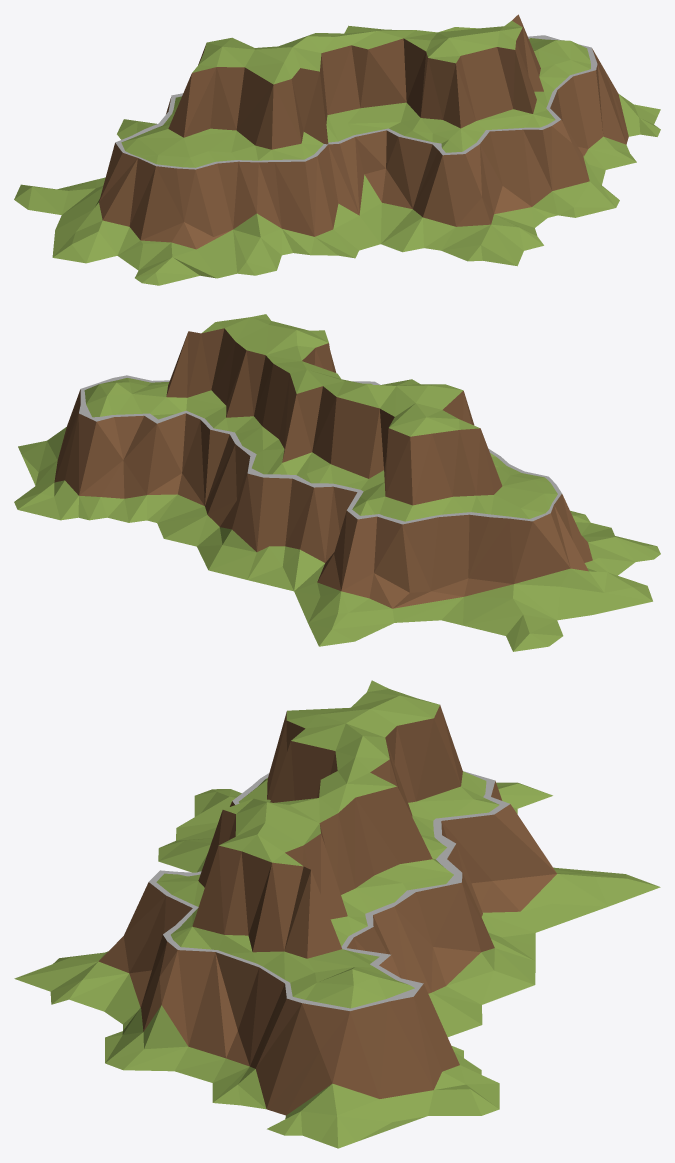
The model's file is mountain01.fbx.
3 views of the same model, one above another, from view 1: azimuth 30°, elevation 25°; view 2: azimuth 150°, elevation 25°; view 3: azimuth 270°, elevation 25° (orthographic). The views are drawn at different scales.
Parts seen in each view (by area): view 1: mountain01; view 2: mountain01; view 3: mountain01.
Boxes of the visible parts, <box> form: mountain01: <box>14,14,660,285</box>; mountain01: <box>14,314,660,651</box>; mountain01: <box>14,680,660,1148</box>.
Bounding box in the file's own units: 39.98 × 28.36 × 9.43.
